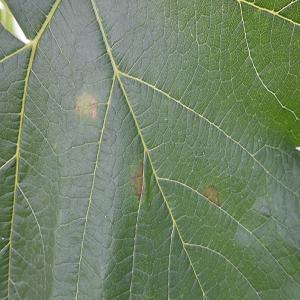Folha: (0, 0, 299, 299)
Fungo: (73, 91, 99, 120), (131, 160, 143, 200), (202, 183, 220, 206)
